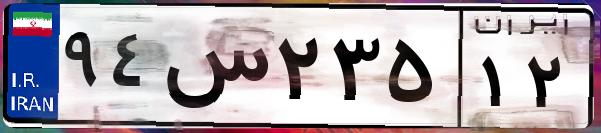1: (475, 38, 525, 113)
2: (270, 28, 330, 110), (525, 38, 570, 115)
3: (330, 28, 385, 110)
4: (110, 28, 158, 98)
5: (385, 28, 445, 110)
9: (57, 26, 110, 100)
س: (158, 20, 270, 120)
